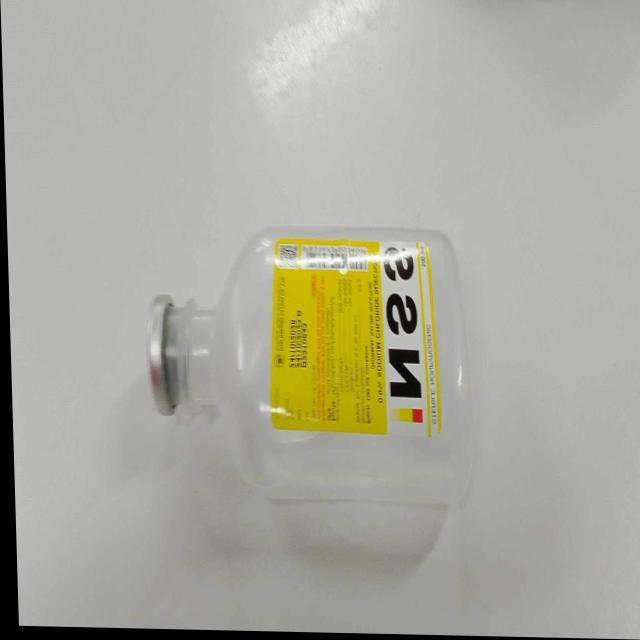General: (268, 236, 444, 440)
Sharps: (146, 223, 478, 560)
